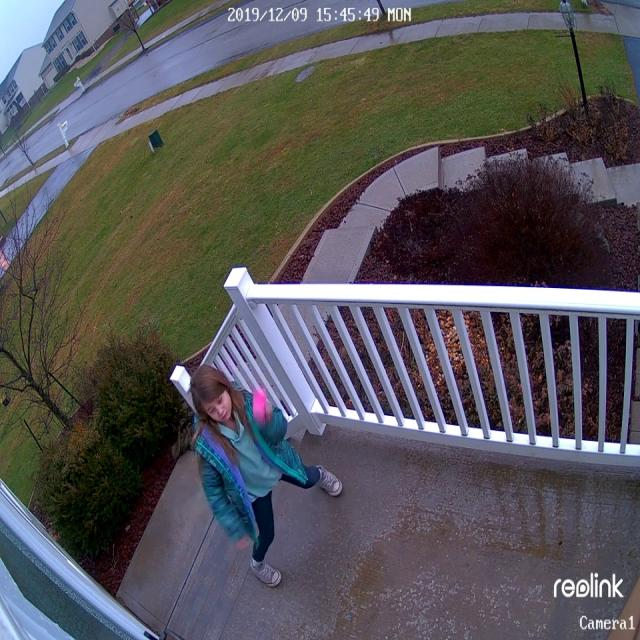child: (185, 362, 345, 590)
